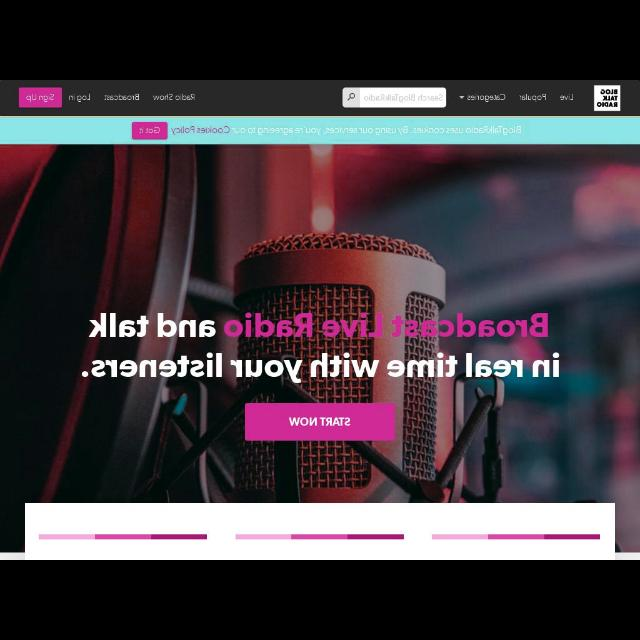backgroundimage: (1, 144, 640, 552)
icon: (347, 94, 355, 100), (460, 96, 464, 98)
image: (594, 85, 620, 111)
input: (343, 87, 447, 107), (363, 94, 442, 102)
spinner: (460, 94, 506, 102)
text: (80, 313, 560, 383), (171, 126, 521, 136), (290, 418, 350, 427), (467, 94, 505, 102), (153, 94, 195, 100), (520, 94, 546, 102), (104, 94, 138, 100), (69, 94, 91, 102), (138, 126, 160, 134), (560, 94, 572, 100)
textbutton: (246, 402, 396, 440), (18, 87, 62, 107), (132, 122, 166, 140)
toolbar: (1, 80, 640, 116)
